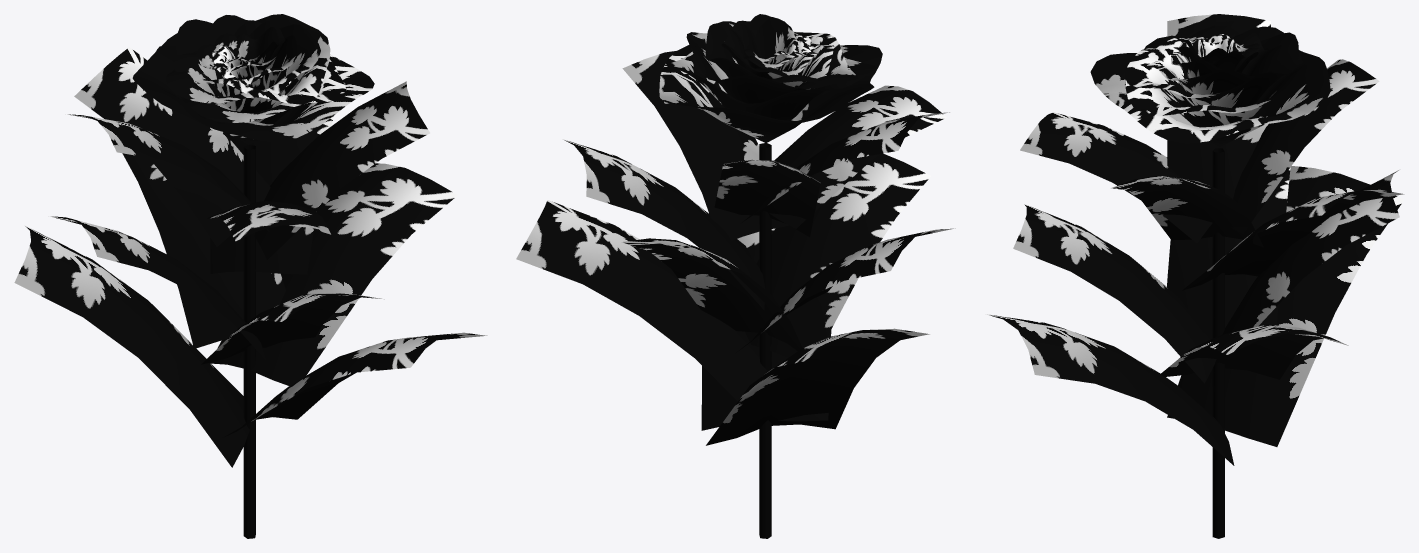
File: SM_Flower_H.glb
The picture shows the model from 3 angles, left to right: view 1: azimuth 30°, elevation 25°; view 2: azimuth 150°, elevation 25°; view 3: azimuth 270°, elevation 25°; orthographic projection.
Visible parts, largest first — view 1: SM_Flower_H_LOD0; view 2: SM_Flower_H_LOD0; view 3: SM_Flower_H_LOD0.
Part boxes in pixels (<box>): SM_Flower_H_LOD0: <box>14,14,487,538</box>; SM_Flower_H_LOD0: <box>516,14,955,538</box>; SM_Flower_H_LOD0: <box>985,14,1404,538</box>.
Size of the model in its own units: 0.4145 by 0.4843 by 0.3691.
Materials: 1 (1 with a texture image).
